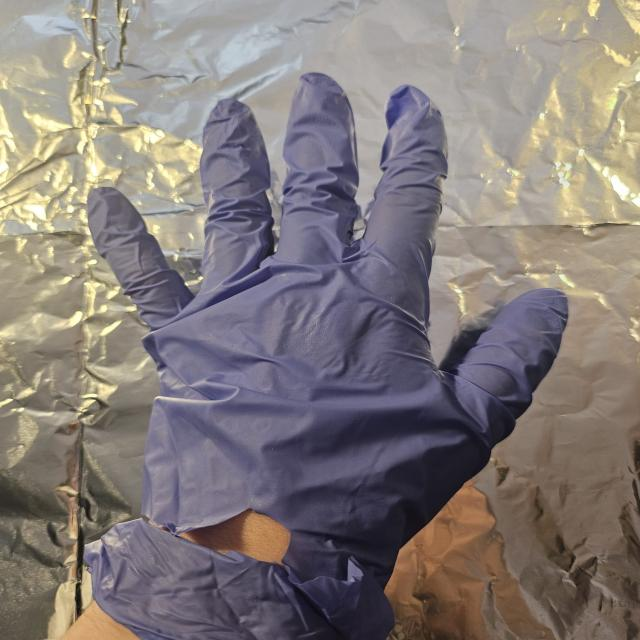gloves_damaged: (81, 74, 568, 634)
